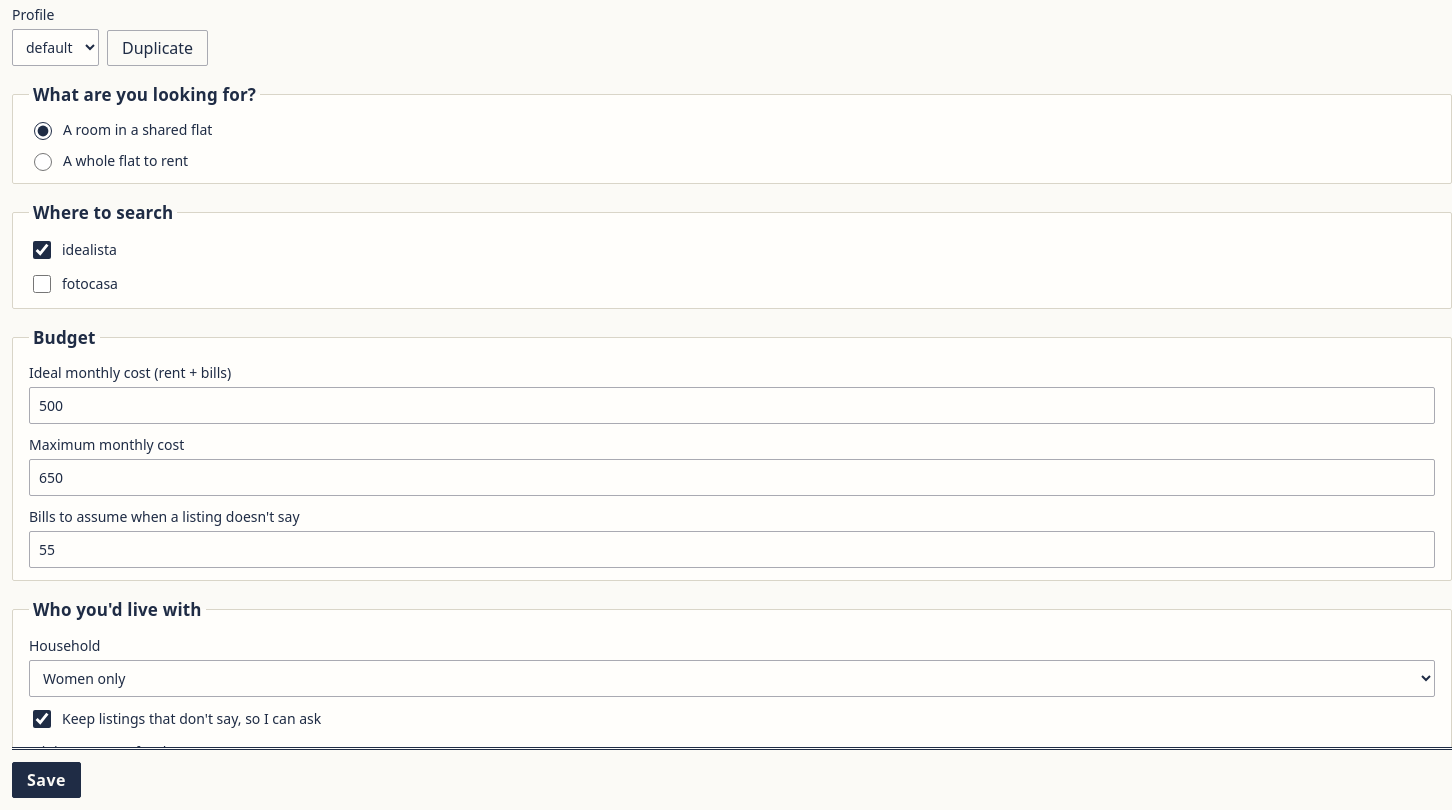
Test: shows the server validation error next to the budget
(page scrolled)
Replace the text in the number field labelled "Ideal monthly cost (rent + bills)" with "900" at coordinates (732, 406), box [29,387,1435,424]
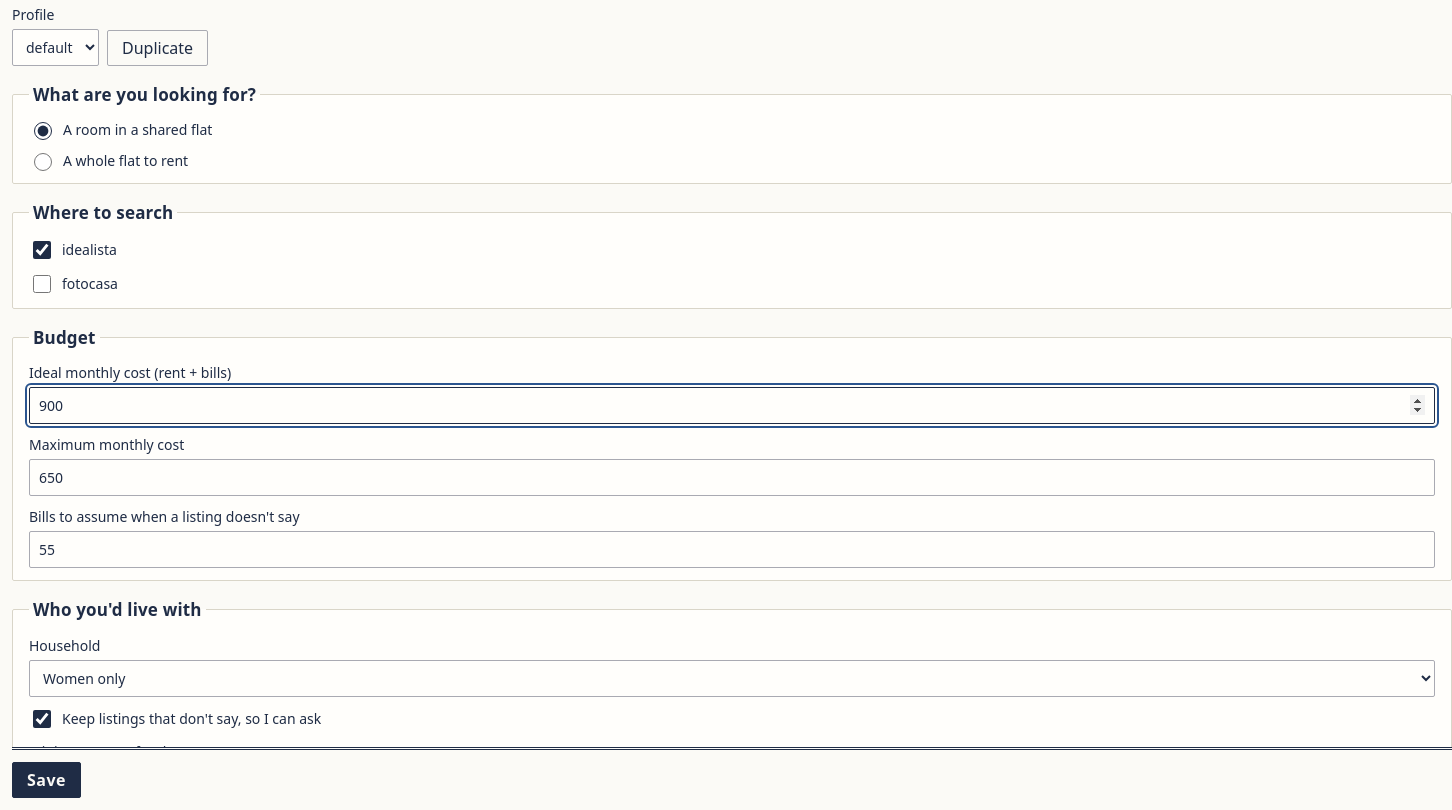
Click the button "Save" at coordinates (46, 780), box [12,762,81,798]
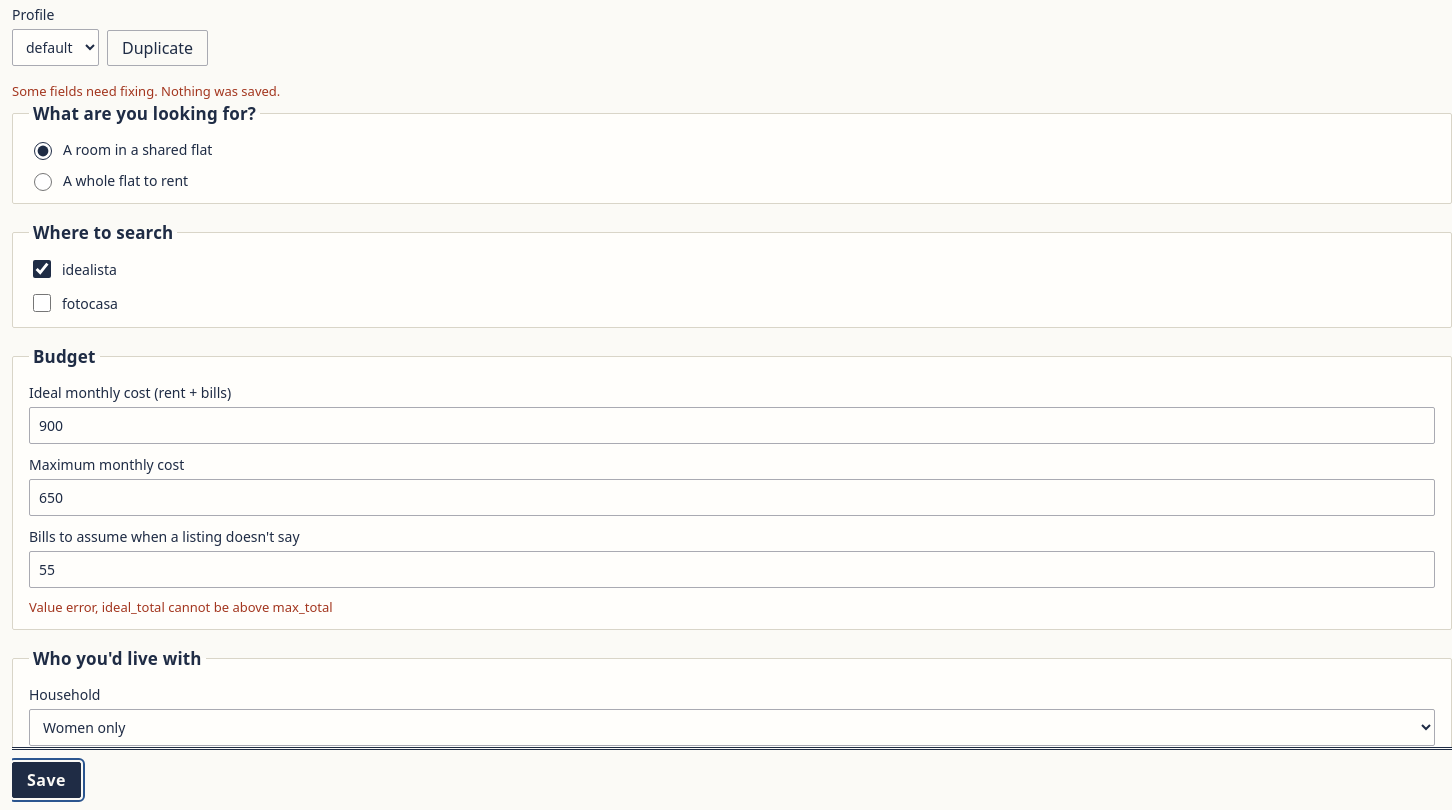
Check: the text "Value error, ideal_total cannot be above max_total" is shown, box [29,598,333,616]
